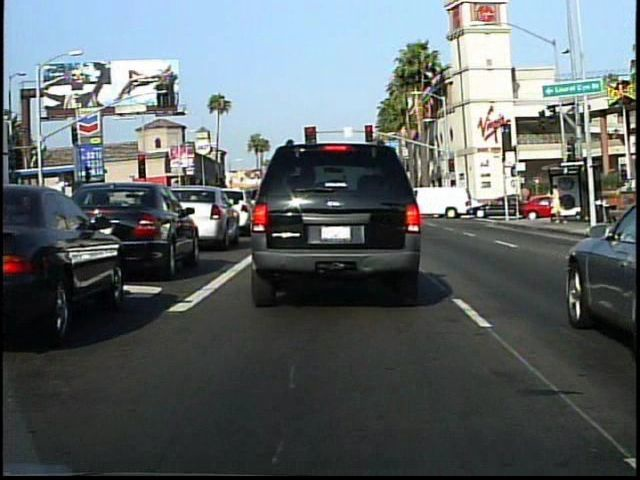person: (546, 181, 567, 229)
